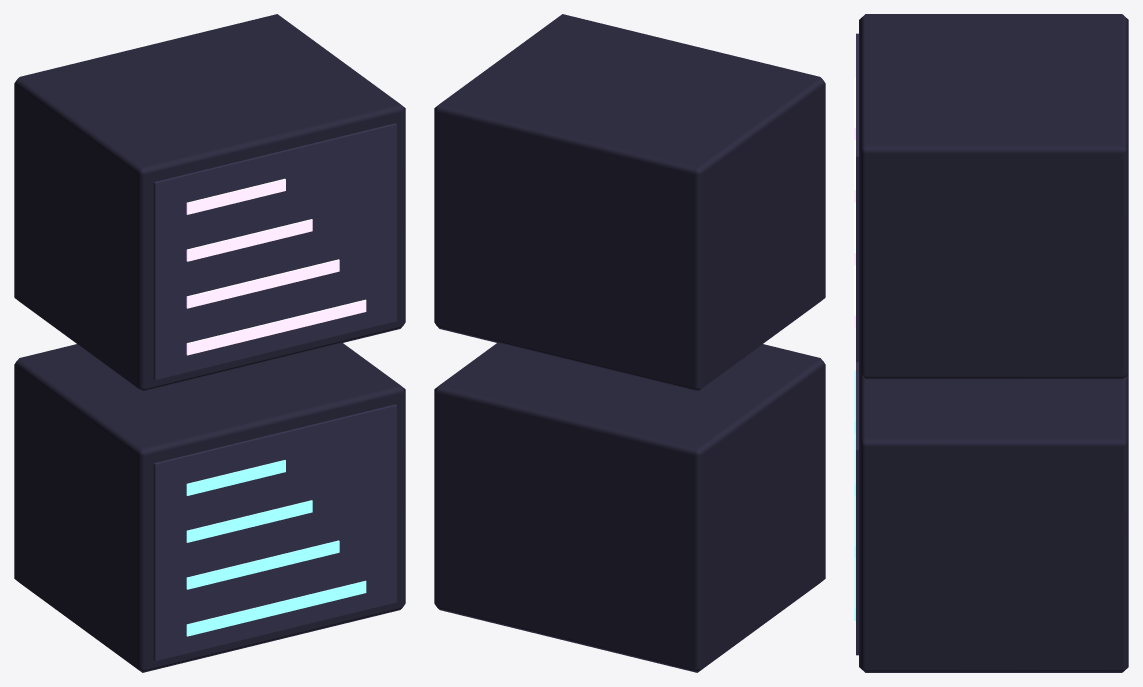
The model's file is station_buffer_ausstattung_2_3.glb.
The picture shows the model from 3 angles, left to right: view 1: azimuth 30°, elevation 25°; view 2: azimuth 150°, elevation 25°; view 3: azimuth 270°, elevation 25°; orthographic projection. The views are drawn at different scales.
Visible parts, largest first — view 1: station_buffer_ausstattung_2_3; view 2: station_buffer_ausstattung_2_3; view 3: station_buffer_ausstattung_2_3.
Boxes of the visible parts, x1,y1,x2,y2 form: station_buffer_ausstattung_2_3: (14, 14, 405, 672); station_buffer_ausstattung_2_3: (434, 14, 825, 672); station_buffer_ausstattung_2_3: (854, 14, 1128, 672).
Bounding box in the file's own units: 0.6 × 1.08 × 0.509.
